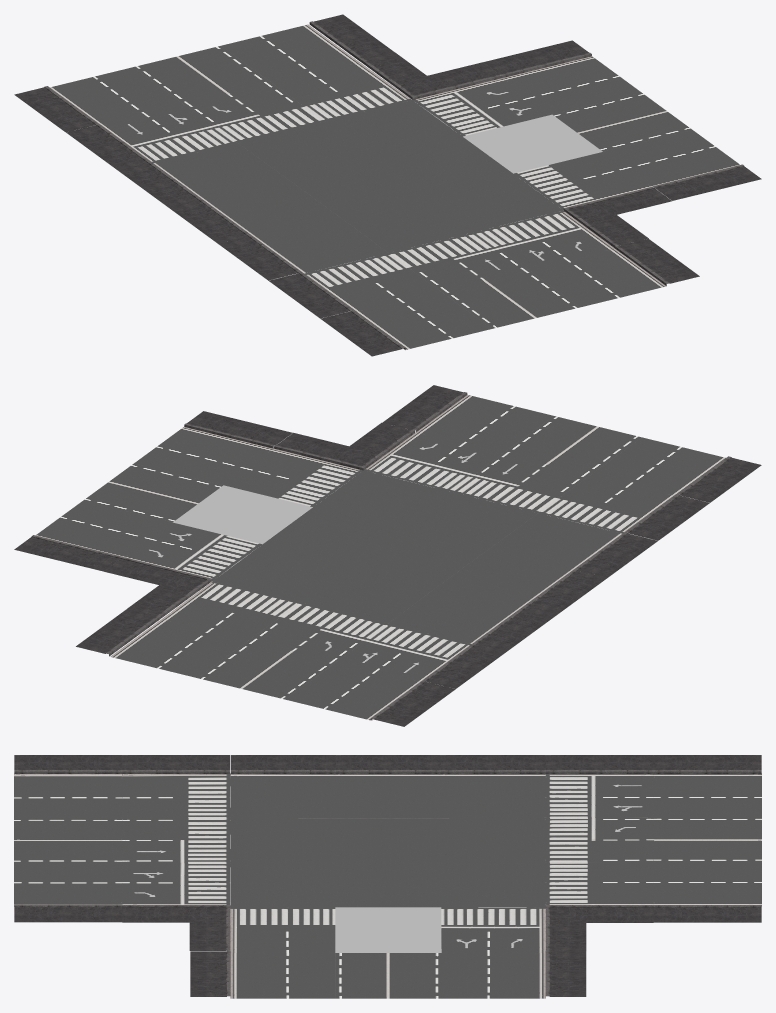
The model's file is 6 line T intersection - old.FBX.
3 views of the same model, one above another, from view 1: azimuth 30°, elevation 25°; view 2: azimuth 150°, elevation 25°; view 3: azimuth 270°, elevation 25° (orthographic). The views are drawn at different scales.
Visible parts, largest first — view 1: Plane100; view 2: Plane100; view 3: Plane100.
Part boxes in pixels (x1=…): Plane100: x1=14, y1=14, x2=761, y2=356; Plane100: x1=14, y1=385, x2=761, y2=726; Plane100: x1=14, y1=755, x2=761, y2=998.
Size of the model in its own units: 63.6 by 0.3187 by 83.1.
